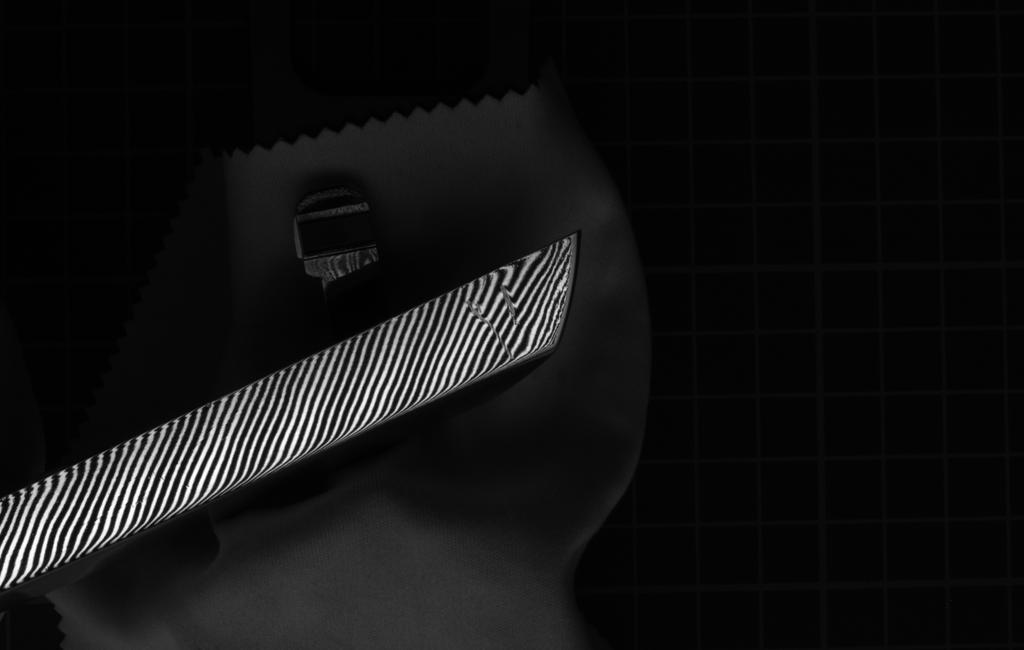Scratch: (452, 295, 524, 381), (493, 270, 537, 346)
